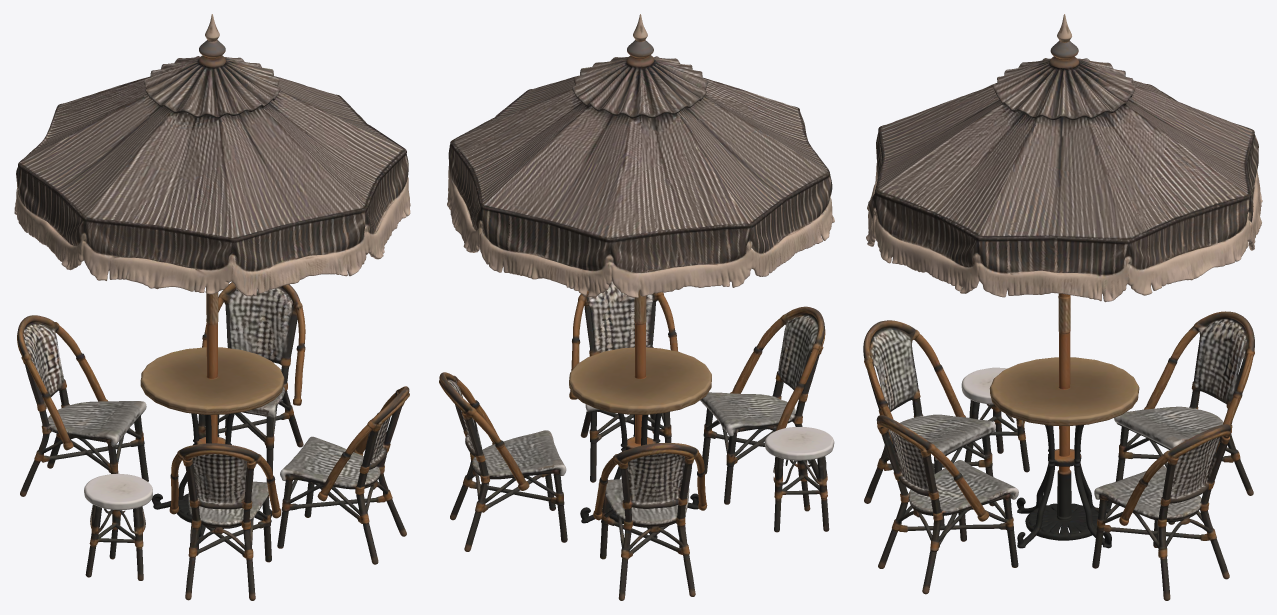
The model's file is patio-decoded.glb.
3 renders of one model, left to right at view 1: azimuth 30°, elevation 25°; view 2: azimuth 150°, elevation 25°; view 3: azimuth 270°, elevation 25°, orthographic. The views are drawn at different scales.
Visible parts, largest first — view 1: tripo_node_ba5b38e3-ff59-415d-bdfd-cf74854e81bf; view 2: tripo_node_ba5b38e3-ff59-415d-bdfd-cf74854e81bf; view 3: tripo_node_ba5b38e3-ff59-415d-bdfd-cf74854e81bf.
Part boxes in pixels (x1,y1,x2,y2): tripo_node_ba5b38e3-ff59-415d-bdfd-cf74854e81bf: (14, 14, 410, 600); tripo_node_ba5b38e3-ff59-415d-bdfd-cf74854e81bf: (439, 14, 834, 600); tripo_node_ba5b38e3-ff59-415d-bdfd-cf74854e81bf: (863, 14, 1262, 600).
Size of the model in its own units: 0.6943 by 1 by 0.6988.
Materials: 1 (1 with a texture image).
